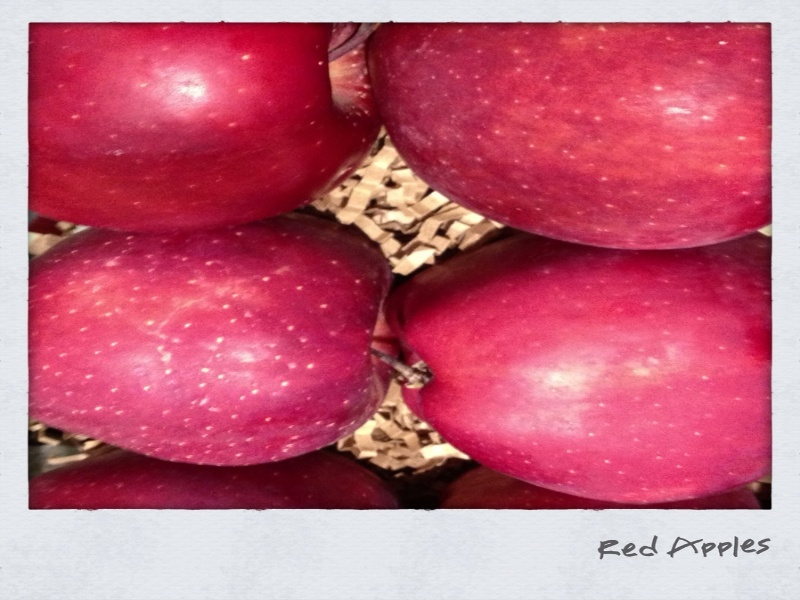apple: (404, 238, 774, 500), (27, 223, 418, 459), (31, 21, 389, 219)
